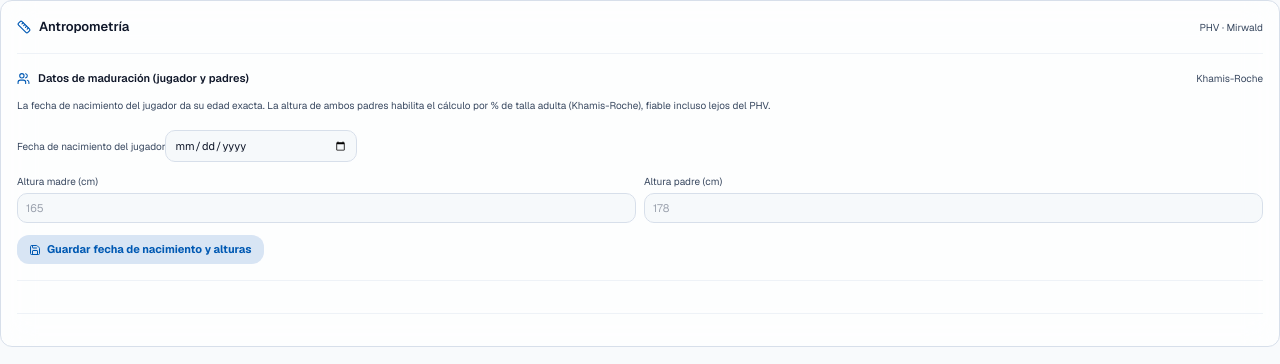
Scenario: PlayerPhvSection · guardado honesto › nube caída ⇒ NO dice «guardado»: aviso + estado visible «pendiente de sincronizar» + en cola
The image size is (1280, 364).
Type "2015-05-10" into the date field labelled "Fecha de nacimiento del jugador".
click(261, 146); type("2015-05-10")  # box [165,130,357,162]
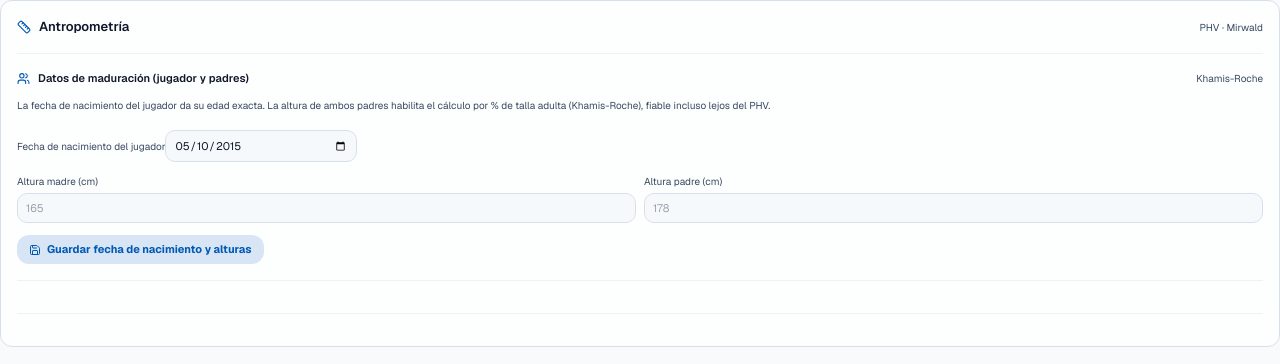
Click the button "Guardar fecha de nacimiento y alturas".
click(140, 250)  # box [17,235,264,264]
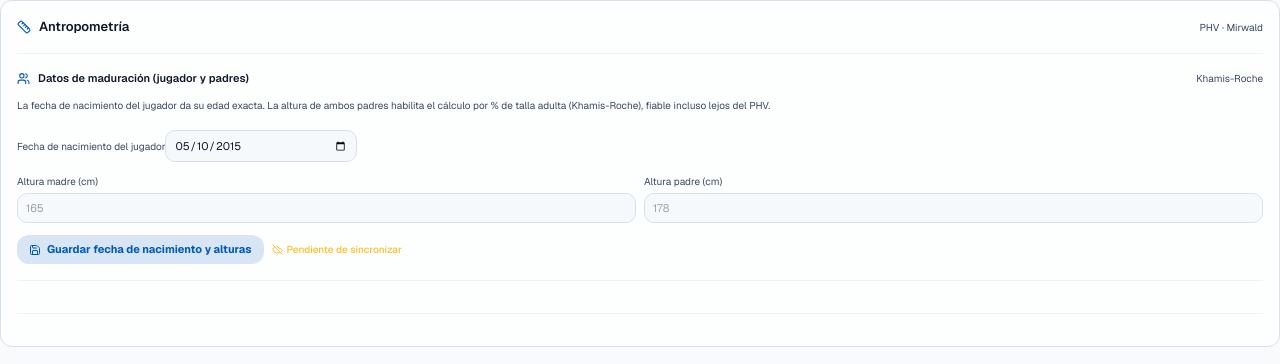
Expected: the text "Pendiente de sincronizar" is shown, [272,242,402,257]
